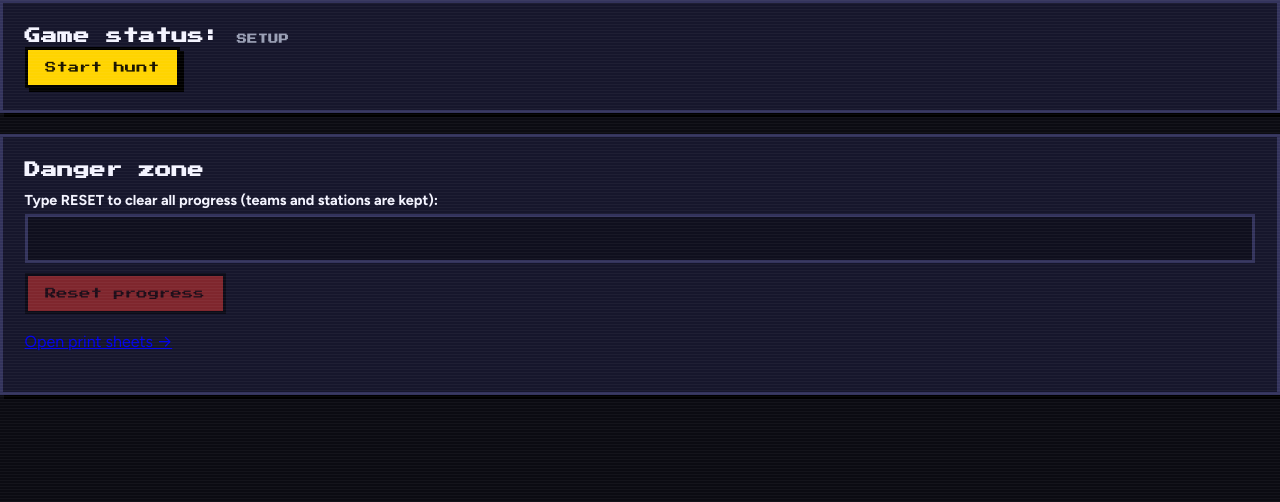
Test: GameControl › explains an incomplete route in plain language
Click the button "Start hunt" at (102, 68), box 25,47 -> 180,88
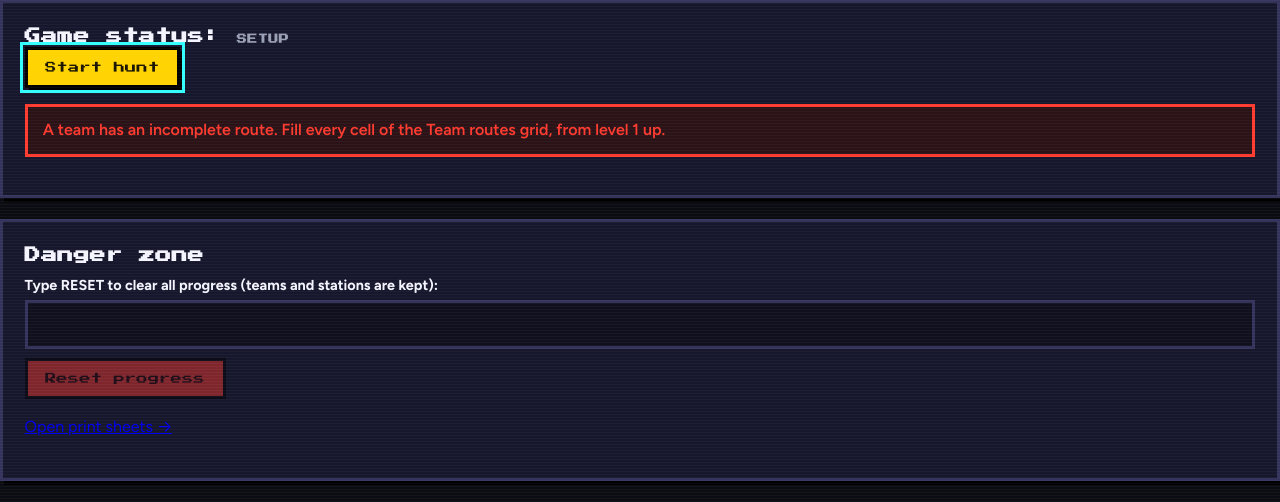
Now the text "Team routes grid" is shown, box 43,120 -> 665,139
